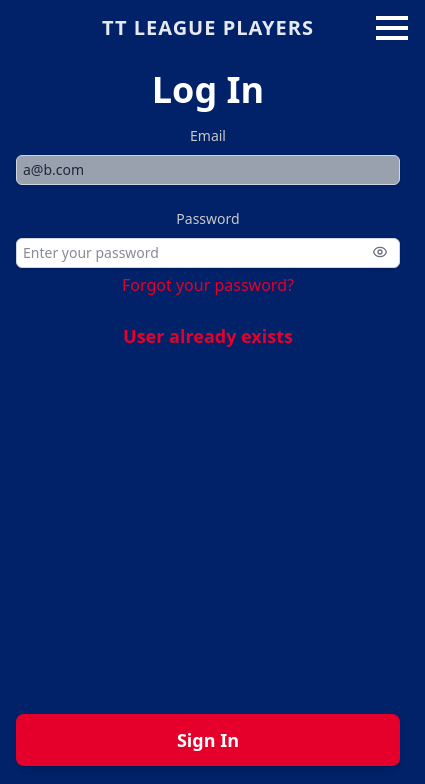
Login page › errors from other pages › an error handed over in the navigation state is shown until Sign In is pressed
Check: the text with test id "login-error-message" reads "User already exists", box [123,324,293,348]
Type "aA1!56789012" into the password field labelled "Password" at {"x": 208, "y": 253}, box [16,238,400,268]
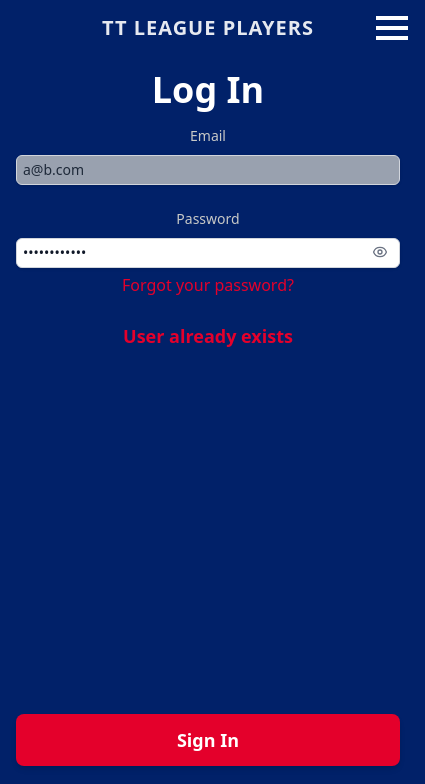
Click the button with test id "login-submit-button" at {"x": 208, "y": 740}, box [16,714,400,766]
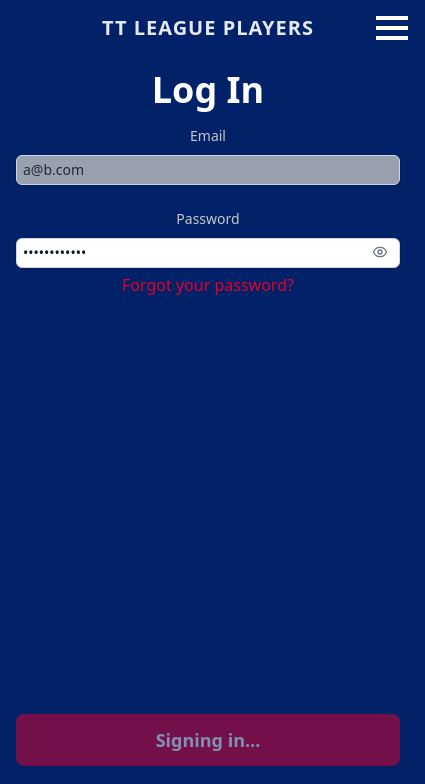
Check: the text with test id "login-error-message" is gone
